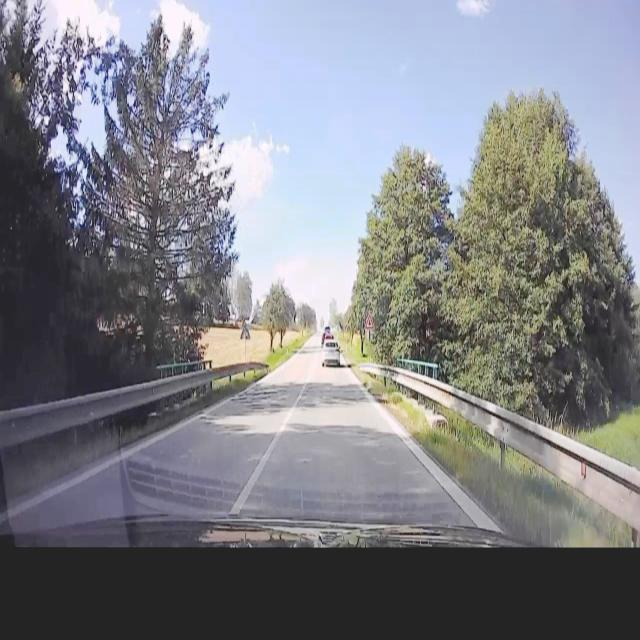Priority road: (364, 311, 375, 332)
